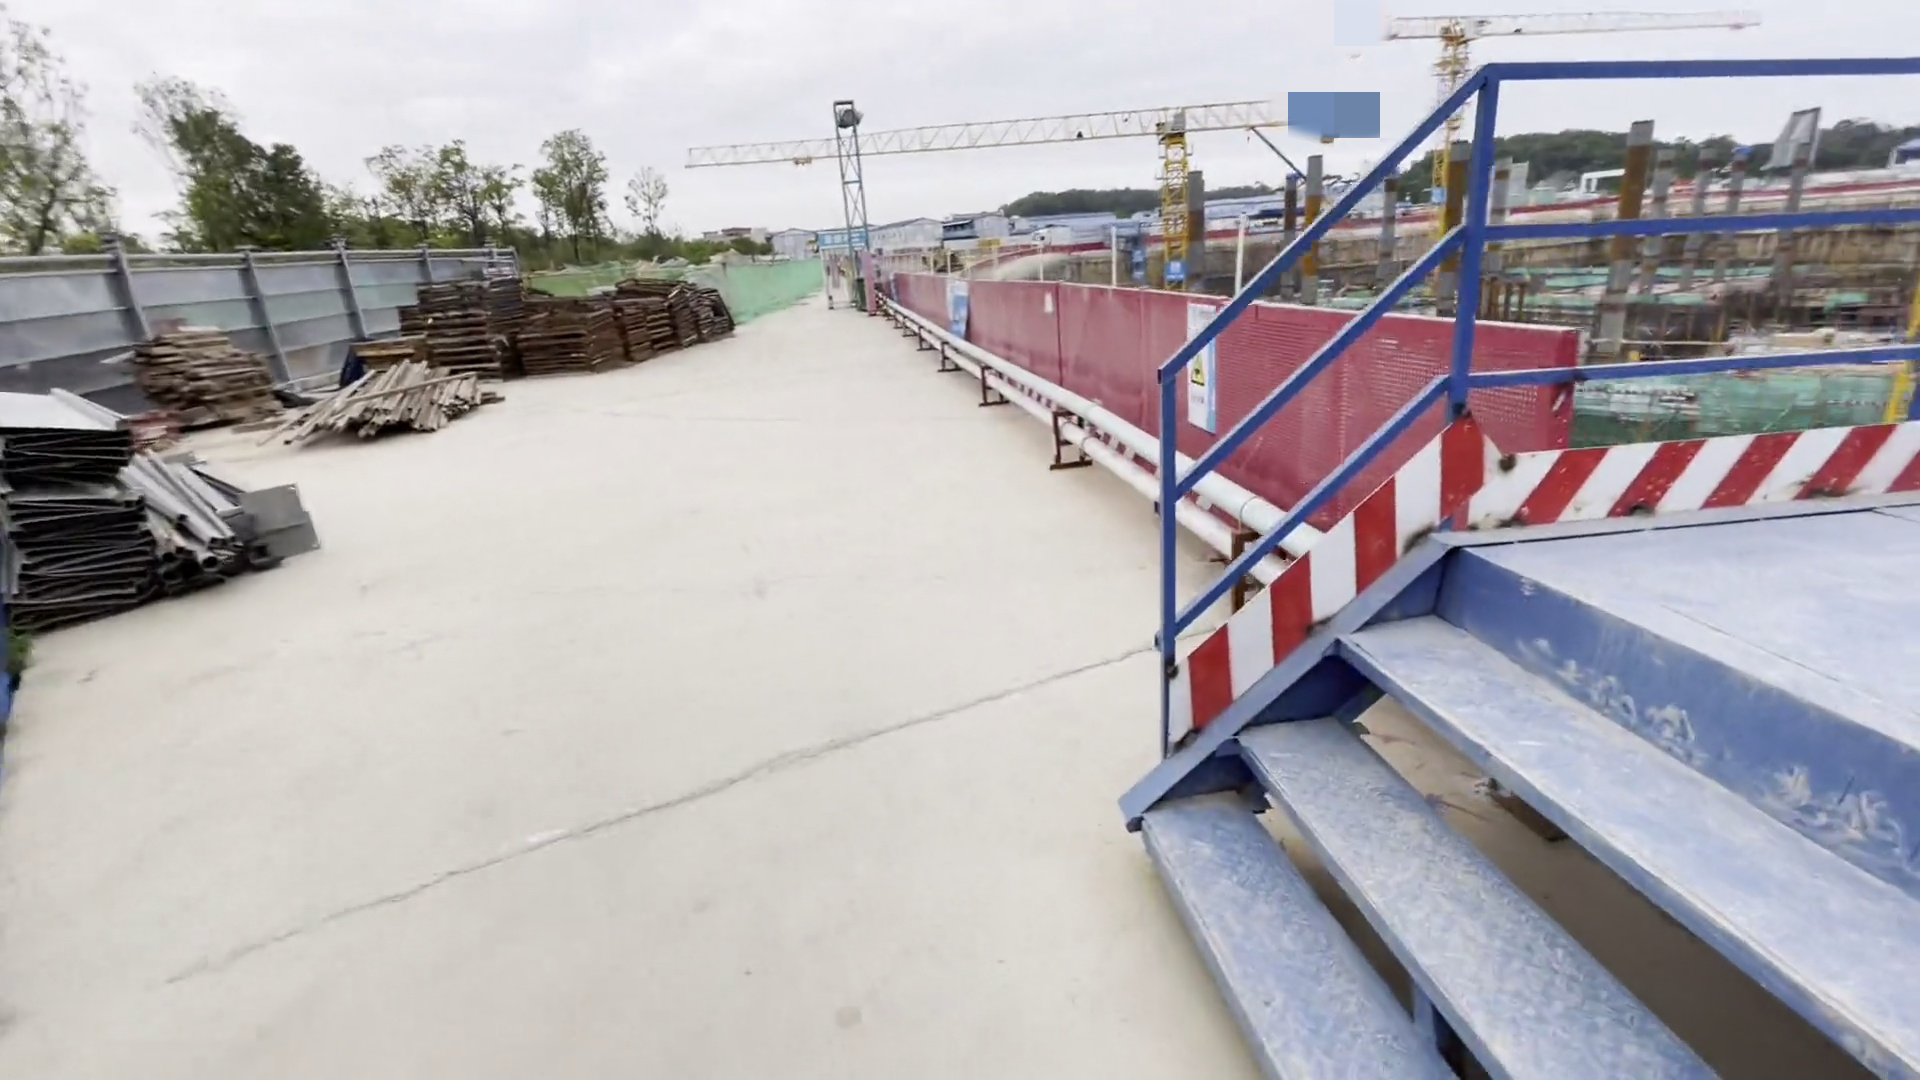fence: (845, 225, 1580, 546)
slogan: (1174, 299, 1233, 443), (943, 274, 975, 345), (1160, 256, 1188, 284), (1432, 182, 1451, 211)
wood: (125, 307, 276, 444), (287, 364, 489, 440)
